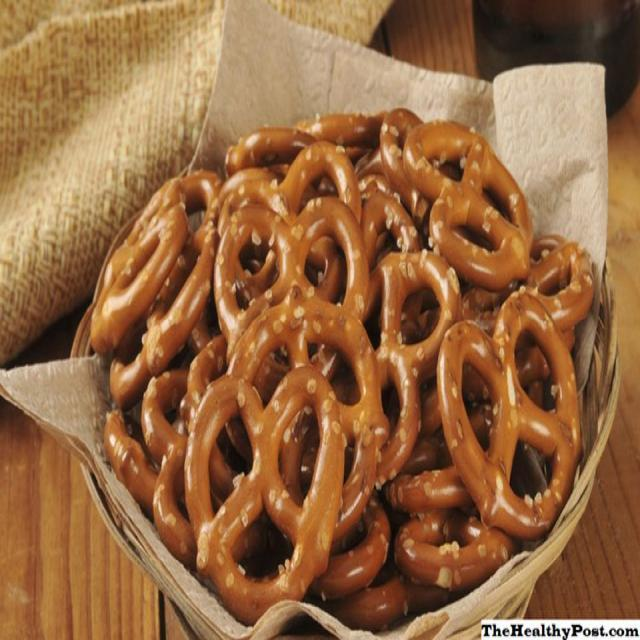Salatini: (88, 108, 596, 607)
